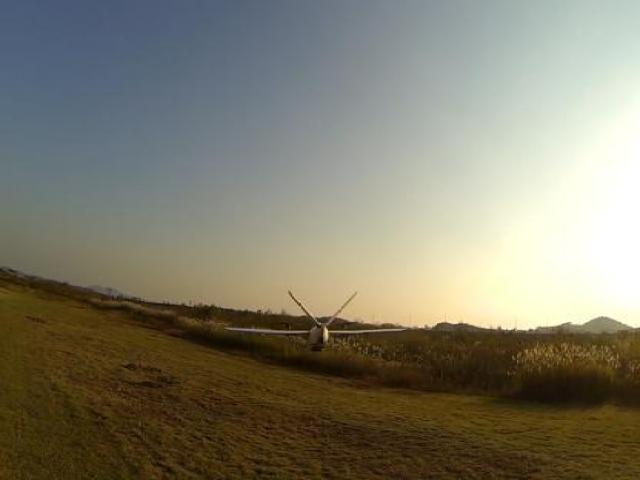uav: (217, 283, 417, 357)
